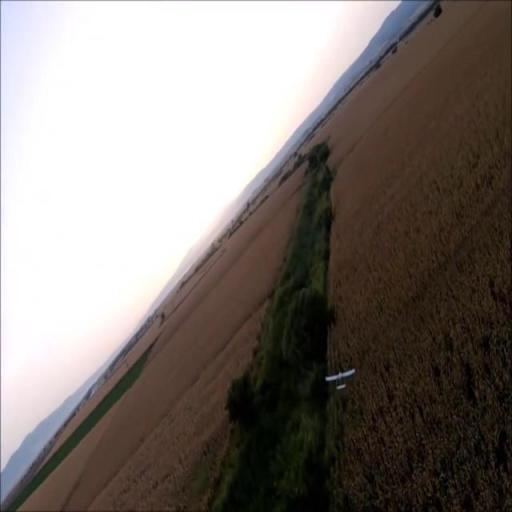uav: (326, 369, 356, 389)
